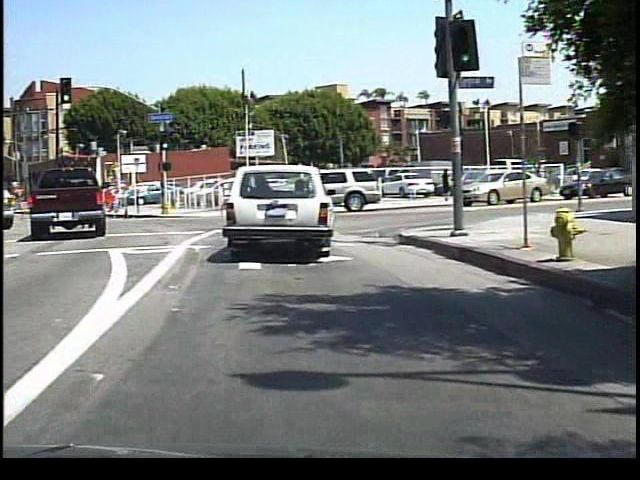person: (437, 166, 451, 205)
